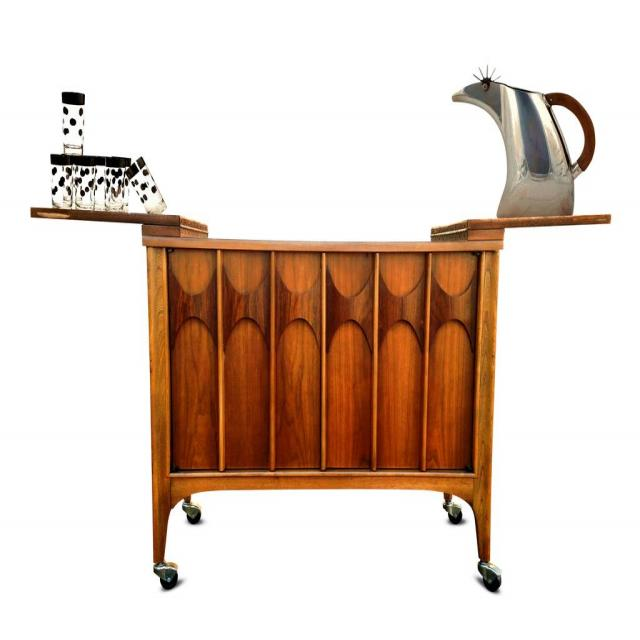Table: (126, 237, 552, 596)
